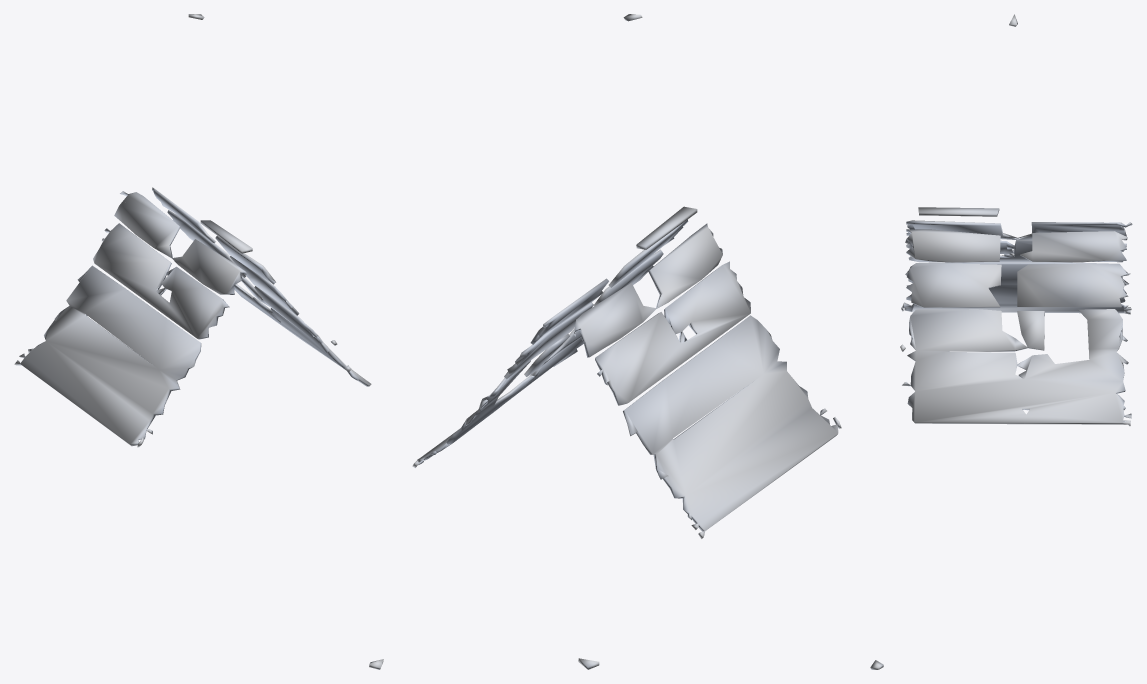
File: protocol.opensea.snow.glb
3 renders of one model, left to right at view 1: azimuth 30°, elevation 25°; view 2: azimuth 150°, elevation 25°; view 3: azimuth 270°, elevation 25°, orthographic. The views are drawn at different scales.
Visible parts, largest first — view 1: building.protocol.opensea.snow.mesh; view 2: building.protocol.opensea.snow.mesh; view 3: building.protocol.opensea.snow.mesh.
Boxes of the visible parts, box(x1,y1,x2,y2) form: building.protocol.opensea.snow.mesh: box(14, 14, 383, 669); building.protocol.opensea.snow.mesh: box(412, 14, 841, 669); building.protocol.opensea.snow.mesh: box(870, 14, 1132, 669).
Size of the model in its own units: 5.18 by 12.72 by 5.03.
